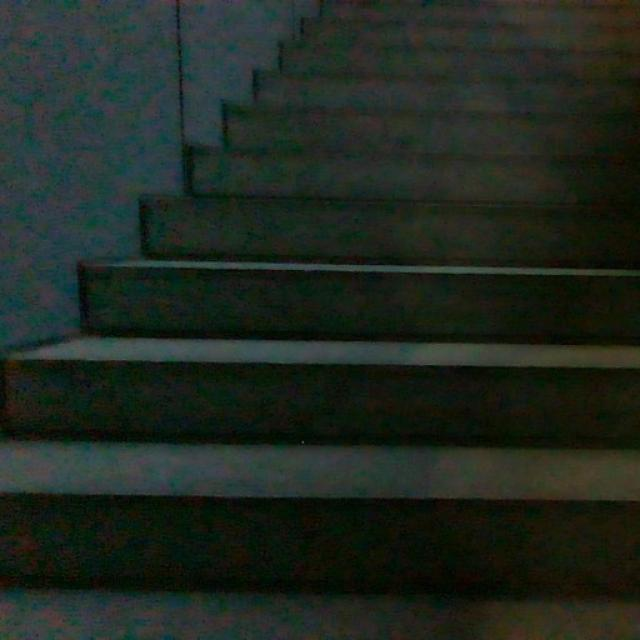stair: (6, 7, 640, 604)
